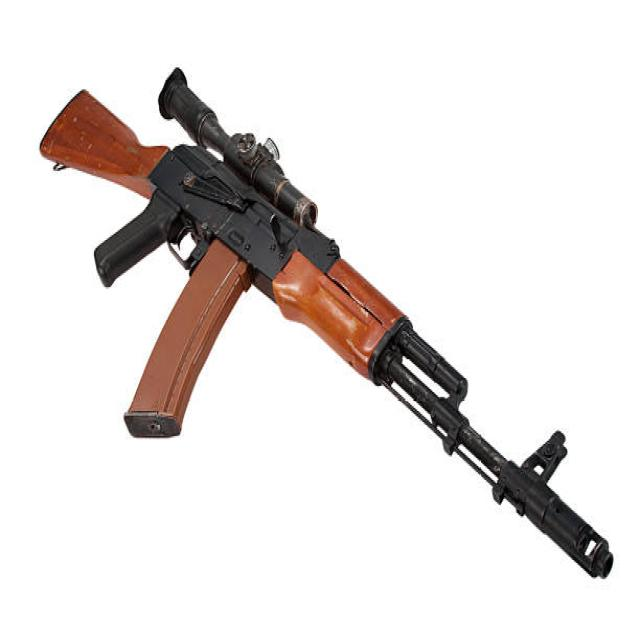rifle: (32, 64, 616, 589)
